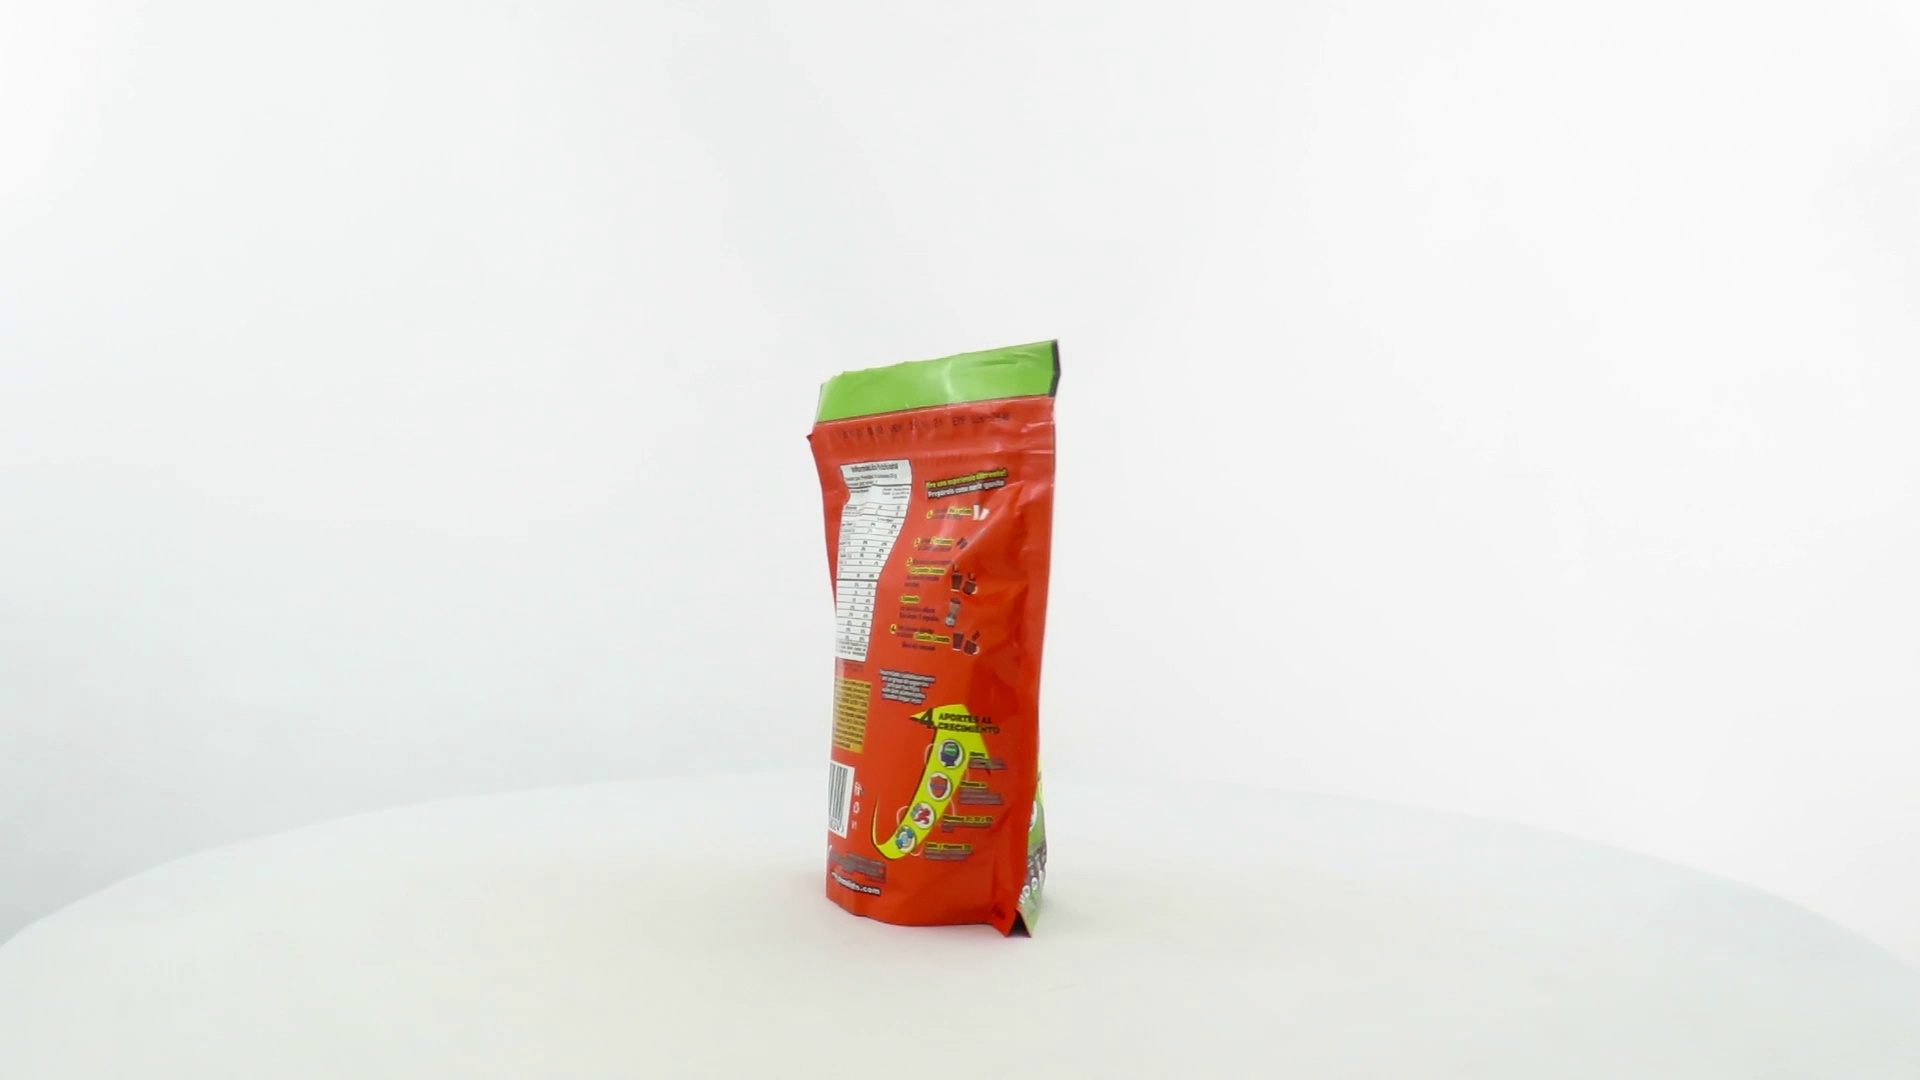COL0170102DYP10000: (800, 334, 1067, 944)
